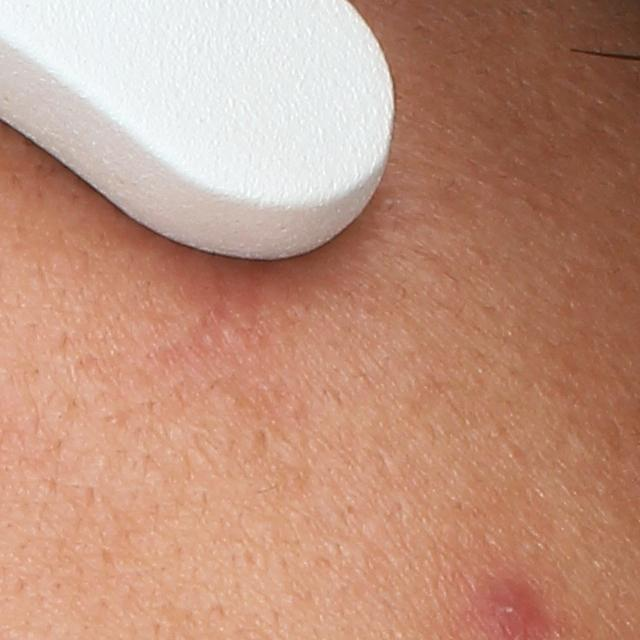papule: (480, 586, 534, 639)
